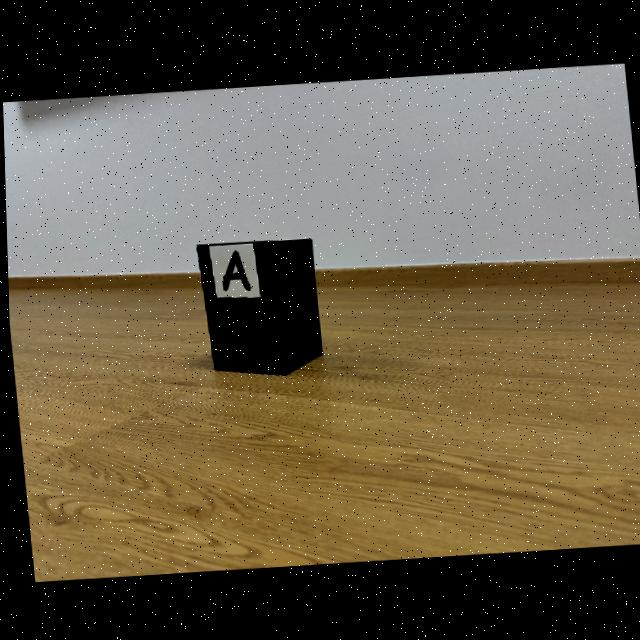A: (221, 250, 249, 290)
